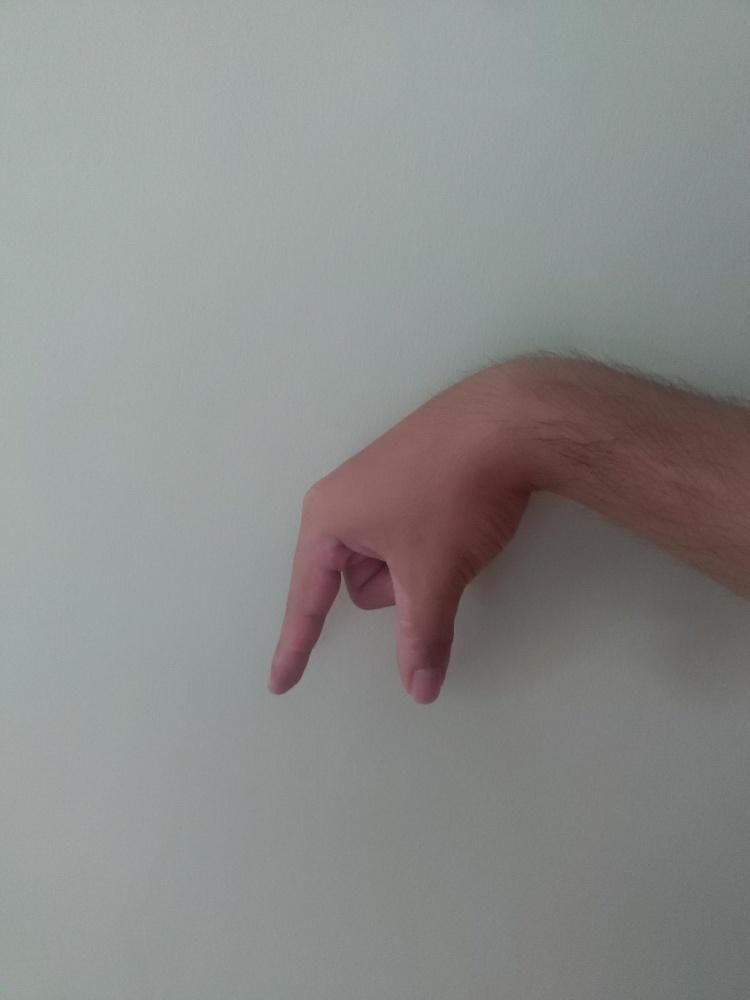q: (264, 353, 532, 702)
